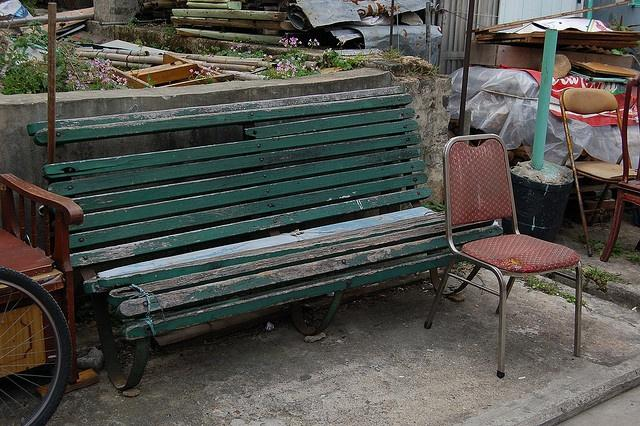Kursi: (422, 132, 582, 378)
